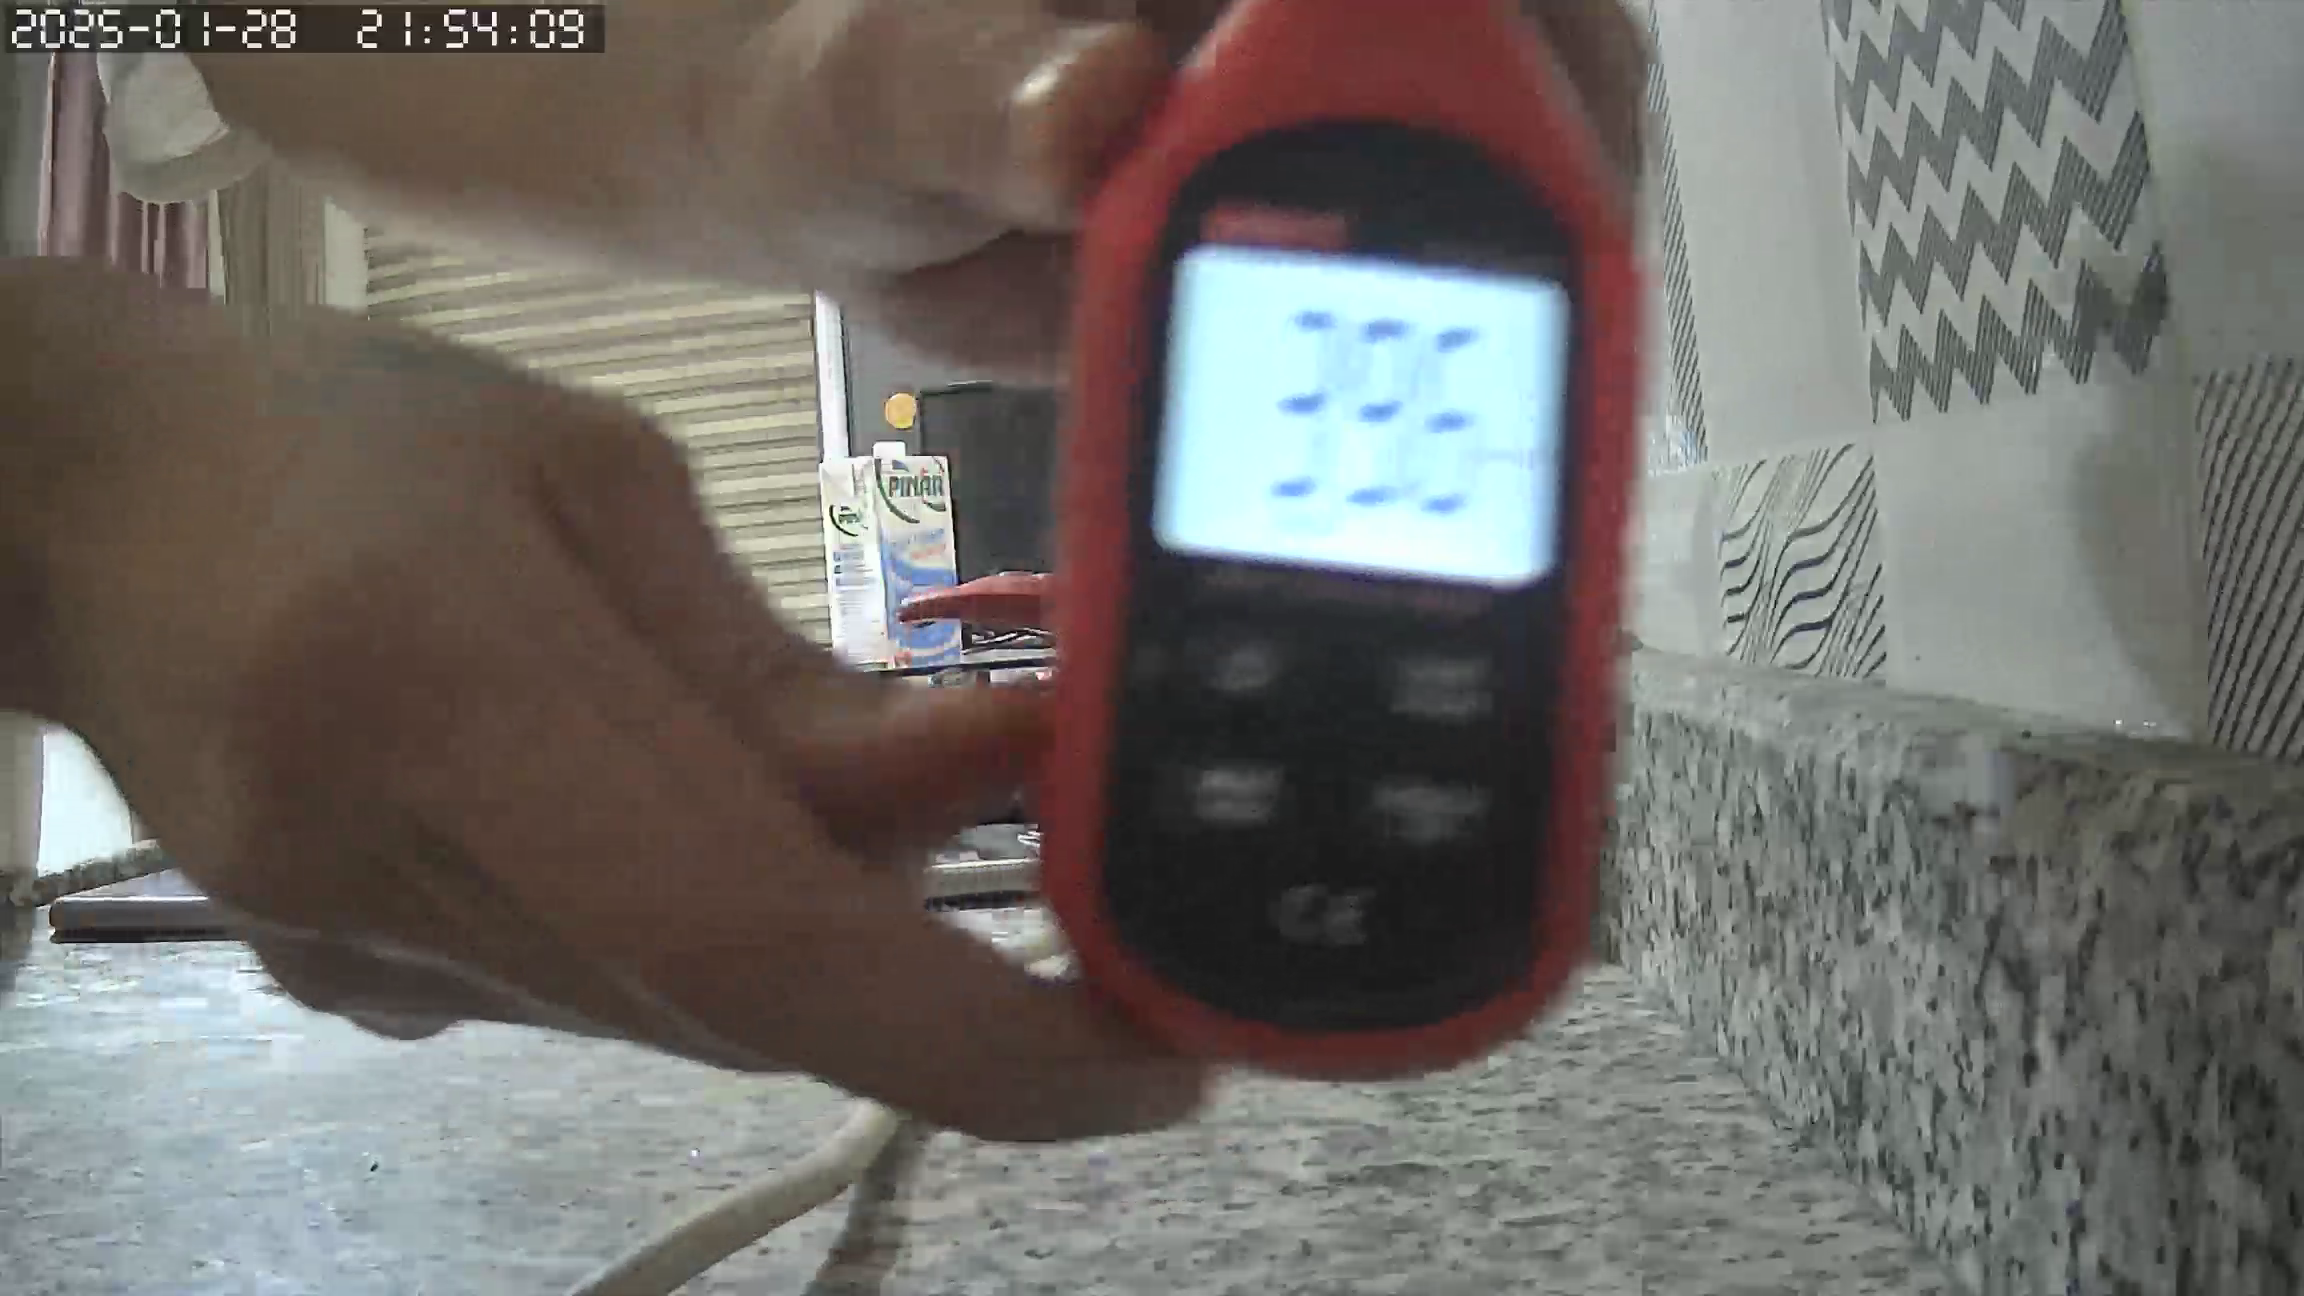screen: (1157, 245, 1571, 587)
